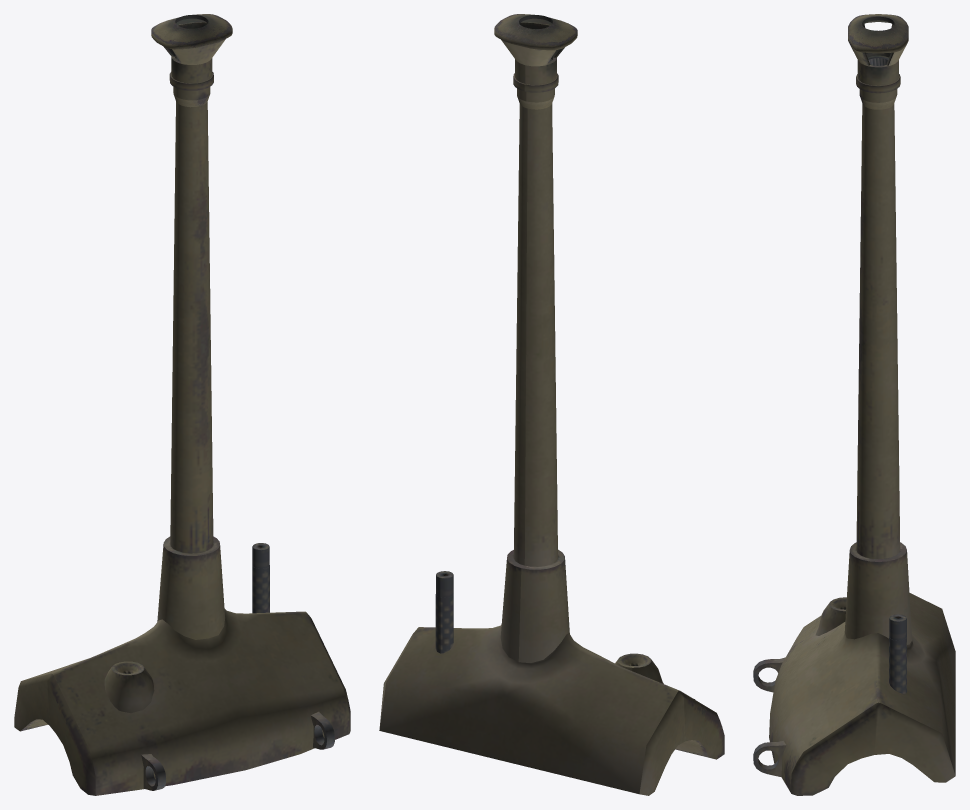
File: Gun_03.glb
The picture shows the model from 3 angles, left to right: view 1: azimuth 30°, elevation 25°; view 2: azimuth 150°, elevation 25°; view 3: azimuth 270°, elevation 25°; orthographic projection. The views are drawn at different scales.
Parts seen in each view (by area): view 1: set_0_group_0; view 2: set_0_group_0; view 3: set_0_group_0.
Part boxes in pixels (bbox=[...]): set_0_group_0: bbox=[14, 14, 350, 795]; set_0_group_0: bbox=[379, 14, 724, 795]; set_0_group_0: bbox=[753, 14, 955, 795].
Size of the model in its own units: 0.8812 by 2.27 by 0.5836.
Materials: 1 (1 with a texture image).
